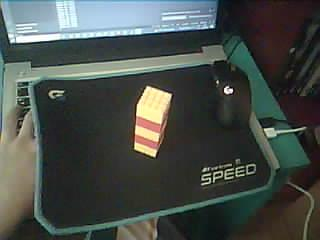lego: (134, 85, 172, 158)
